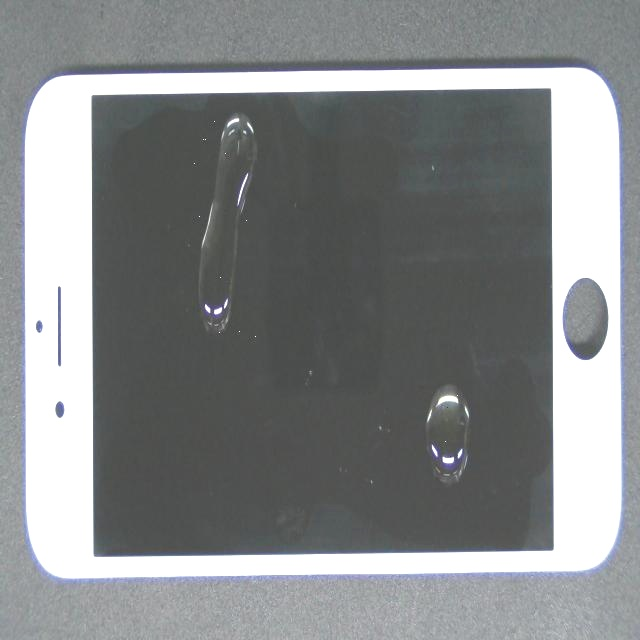oil: (213, 168, 634, 640), (130, 0, 319, 223)
